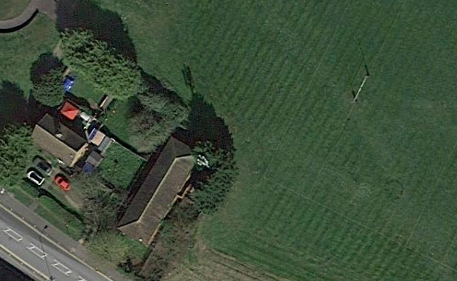tree: (24, 60, 69, 111), (122, 108, 169, 156)
